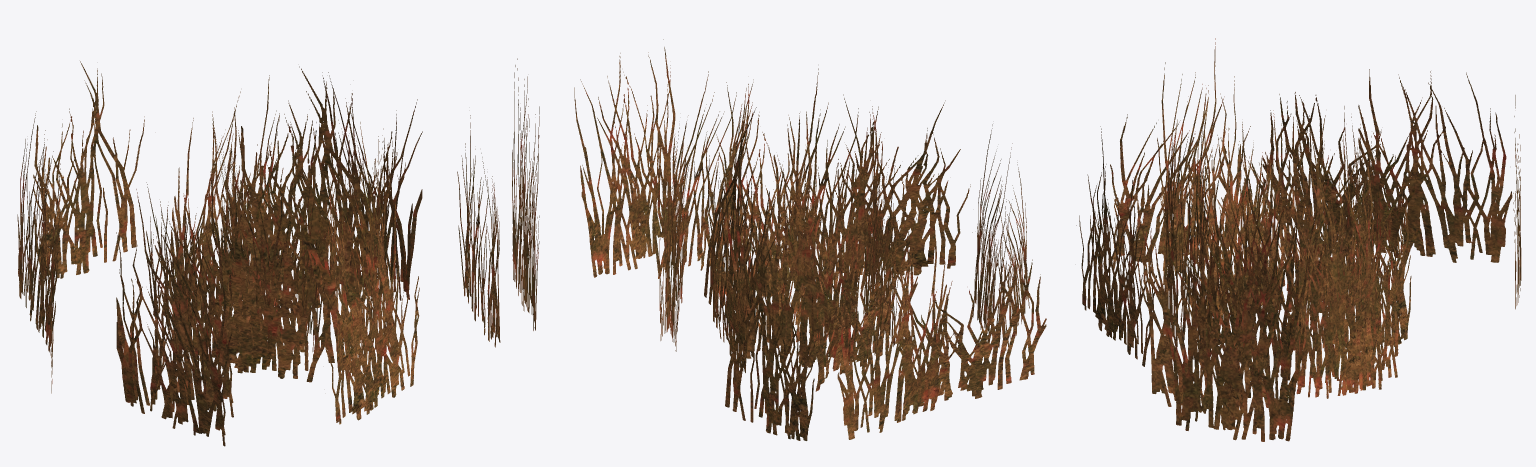
Rendered from grass_3d_05_copper.glb.
The picture shows the model from 3 angles, left to right: view 1: azimuth 30°, elevation 25°; view 2: azimuth 150°, elevation 25°; view 3: azimuth 270°, elevation 25°; orthographic projection. The views are drawn at different scales.
Visible parts, largest first — view 1: grass_cards; view 2: grass_cards; view 3: grass_cards.
Part boxes in pixels (box(x1,y1,x2,y2)): grass_cards: box(17, 58, 539, 446); grass_cards: box(574, 39, 1046, 440); grass_cards: box(1076, 38, 1521, 441).
Bounding box in the file's own units: 1.16 × 0.608 × 0.947.
1 material, 1 textured.
